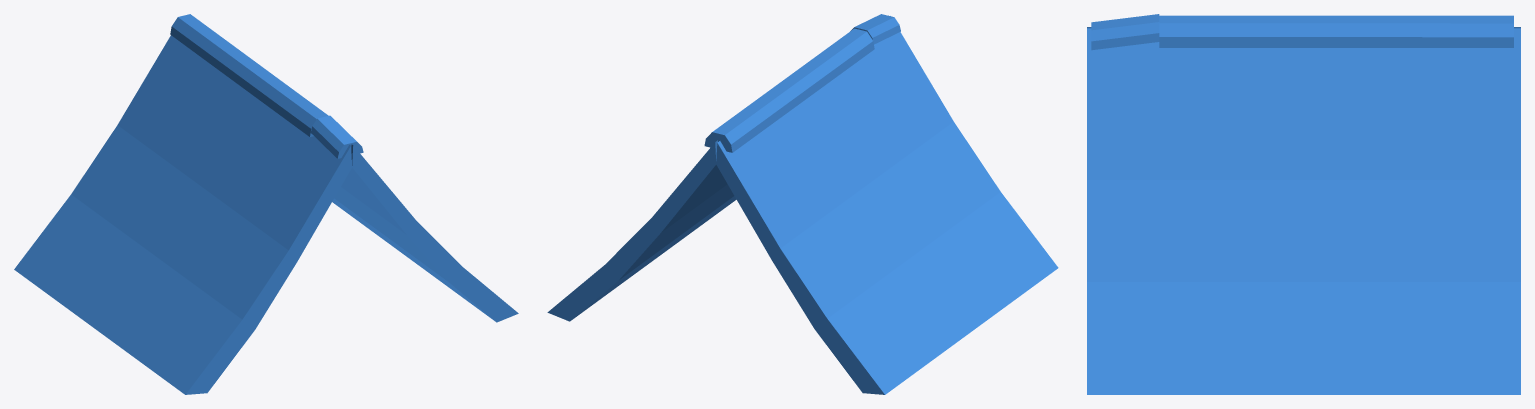
File: Collision_Roof_FlatTiles_6x6.fbx
The picture shows the model from 3 angles, left to right: view 1: azimuth 30°, elevation 25°; view 2: azimuth 150°, elevation 25°; view 3: azimuth 270°, elevation 25°; orthographic projection. The views are drawn at different scales.
Parts seen in each view (by area): view 1: UCX_Roof_FlatTiles_6x6_01; view 2: UCX_Roof_FlatTiles_6x6_01; view 3: UCX_Roof_FlatTiles_6x6_01.
Part boxes in pixels (bbox=[...]): UCX_Roof_FlatTiles_6x6_01: bbox=[14, 14, 518, 394]; UCX_Roof_FlatTiles_6x6_01: bbox=[547, 14, 1058, 394]; UCX_Roof_FlatTiles_6x6_01: bbox=[1087, 14, 1520, 394].
Size of the model in its own units: 861 by 543 by 766.
